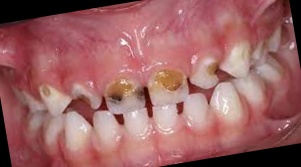Caries: (102, 74, 150, 107), (150, 63, 188, 97), (69, 86, 93, 112), (201, 59, 222, 80), (38, 84, 56, 102)
